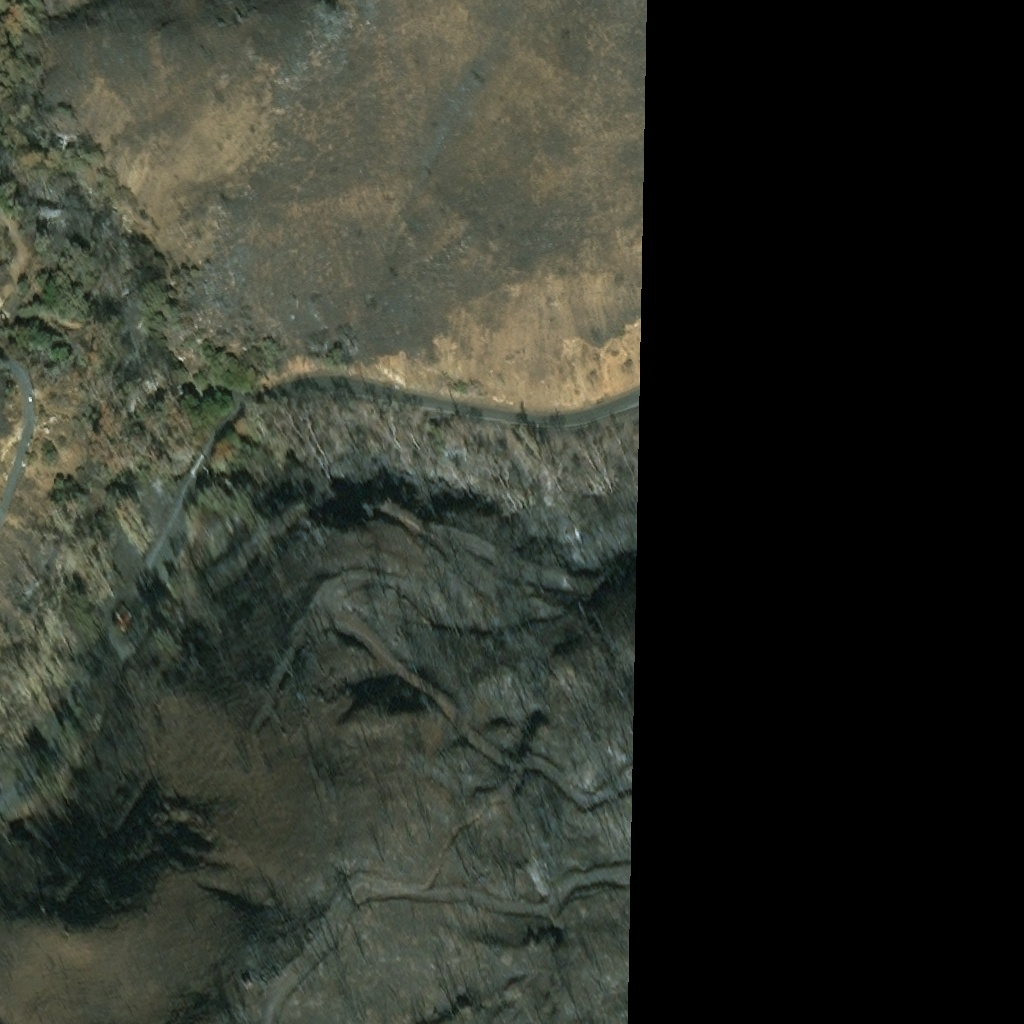3 destroyed: (163, 532, 177, 547)
